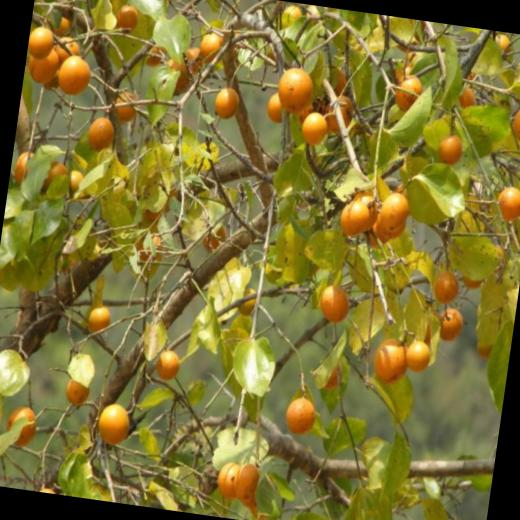Grape: (264, 58, 358, 148), (22, 13, 98, 95), (336, 176, 414, 252), (370, 336, 410, 387), (94, 402, 132, 447), (3, 403, 38, 448), (318, 282, 352, 324), (282, 396, 317, 436), (231, 460, 261, 505), (393, 72, 423, 114), (396, 17, 427, 54), (86, 115, 116, 153), (436, 306, 464, 344), (432, 268, 461, 304), (164, 57, 191, 95), (404, 338, 432, 374), (42, 161, 70, 197), (494, 184, 520, 222), (216, 460, 240, 500), (154, 348, 181, 382), (214, 86, 240, 121), (436, 134, 464, 166), (199, 32, 225, 66), (136, 230, 163, 262), (202, 222, 227, 254), (114, 5, 138, 38), (64, 376, 90, 406), (112, 88, 136, 120), (86, 305, 111, 335), (322, 360, 344, 392), (182, 45, 204, 76), (280, 2, 304, 30), (66, 168, 87, 200), (14, 150, 32, 187), (492, 32, 514, 62), (249, 495, 273, 520), (456, 84, 478, 110), (239, 286, 257, 316), (144, 44, 167, 67), (509, 100, 520, 147), (393, 59, 414, 83), (60, 250, 79, 276), (163, 183, 179, 212), (492, 244, 506, 274), (304, 4, 320, 26), (425, 313, 438, 339), (141, 207, 160, 223), (461, 279, 483, 292), (476, 343, 492, 360), (40, 486, 58, 494)
